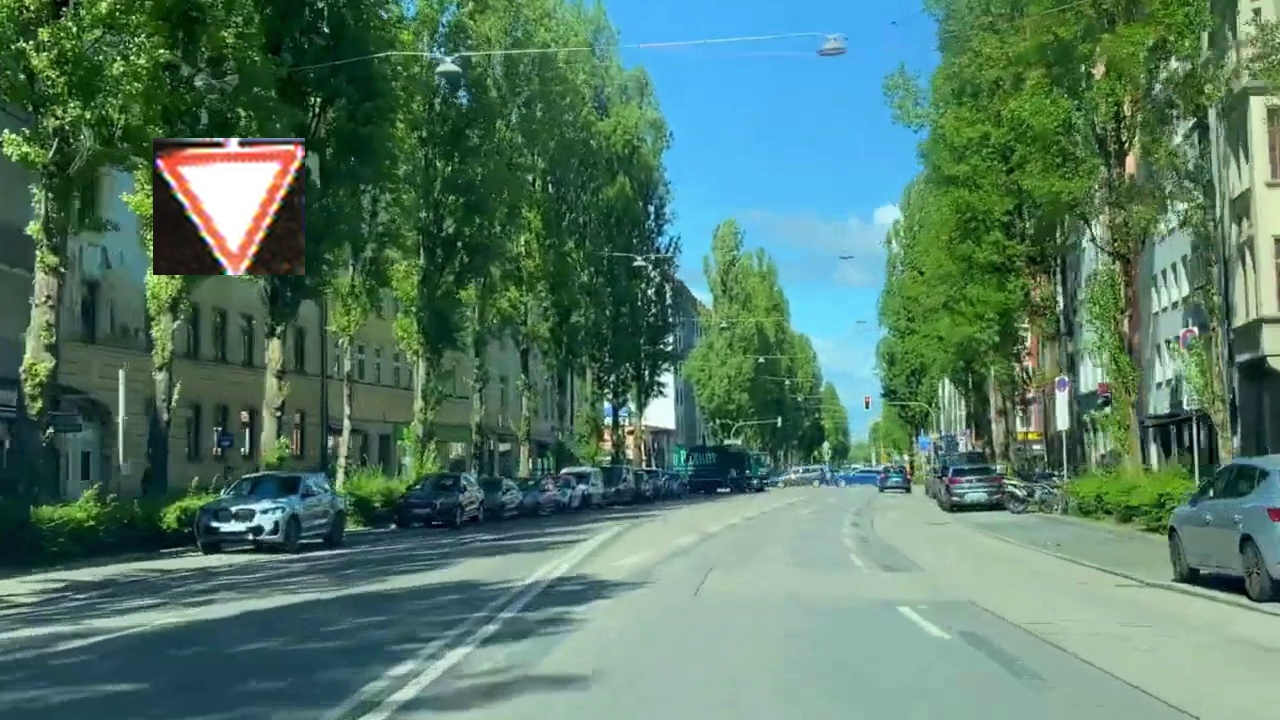Yield: (153, 138, 305, 275)
